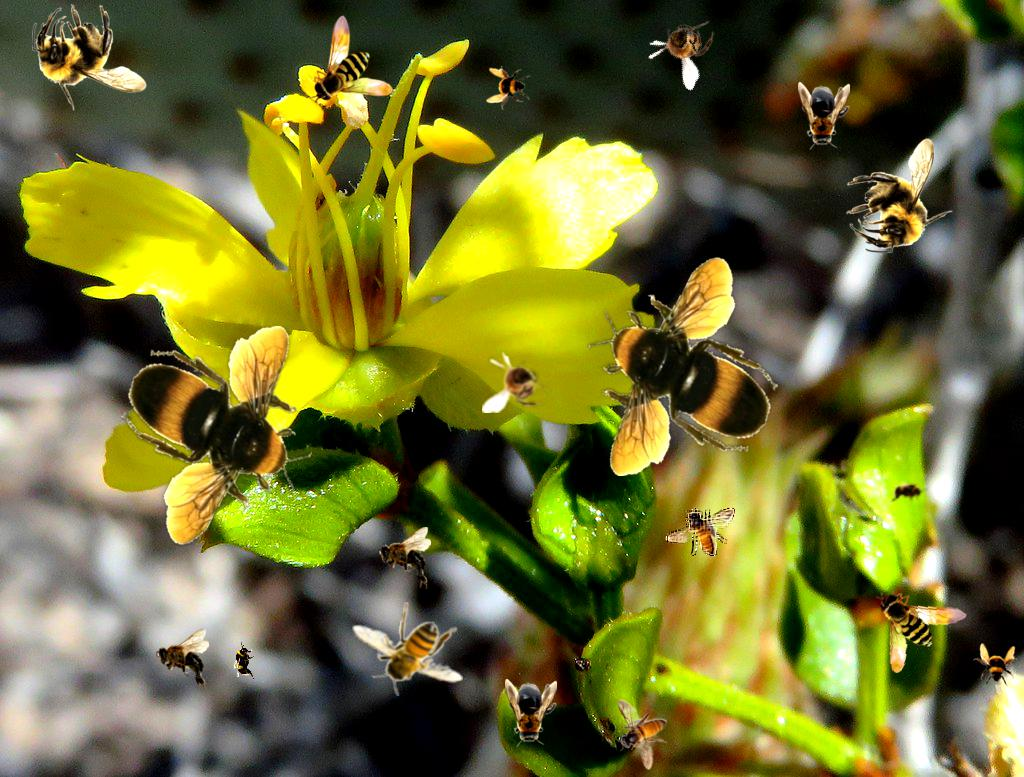Bee: (121, 326, 312, 546), (587, 256, 778, 476), (32, 4, 147, 111), (846, 138, 953, 253), (352, 602, 463, 696), (875, 583, 973, 675), (638, 0, 727, 92), (311, 15, 393, 103), (482, 352, 552, 413), (665, 507, 736, 557), (617, 699, 667, 770), (798, 82, 850, 150), (505, 679, 557, 747), (156, 629, 209, 691), (378, 527, 431, 589), (973, 643, 1017, 687), (486, 66, 530, 110), (233, 641, 255, 681), (888, 481, 928, 503)
